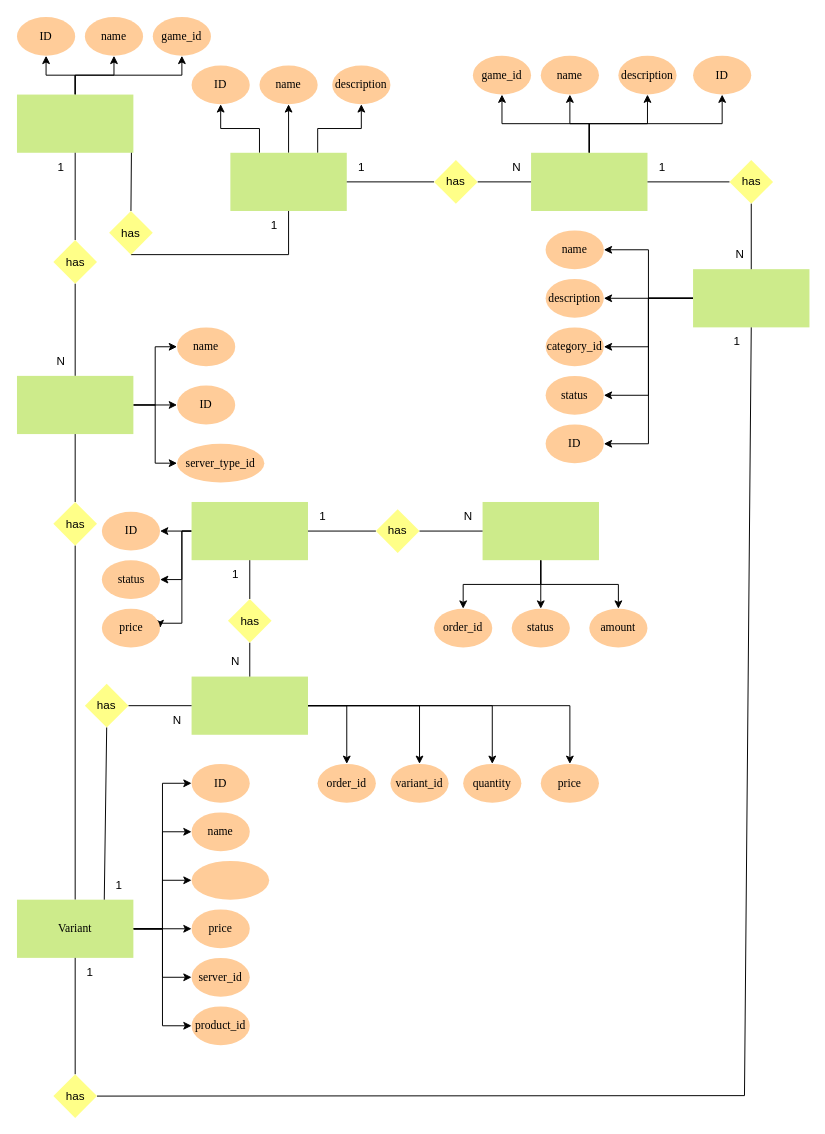
Image size: 825x1134. Some labels were removed from this diagram. Each missing label, with the centre of its shape:
Category: the point at 589,181
Game: the point at 288,181
Order: the point at 249,530
Order Item: the point at 249,705
Payment: the point at 540,530
Product: the point at 751,298
Server: the point at 74,404
Server Type: the point at 74,123
stock_quantity: the point at 230,879
